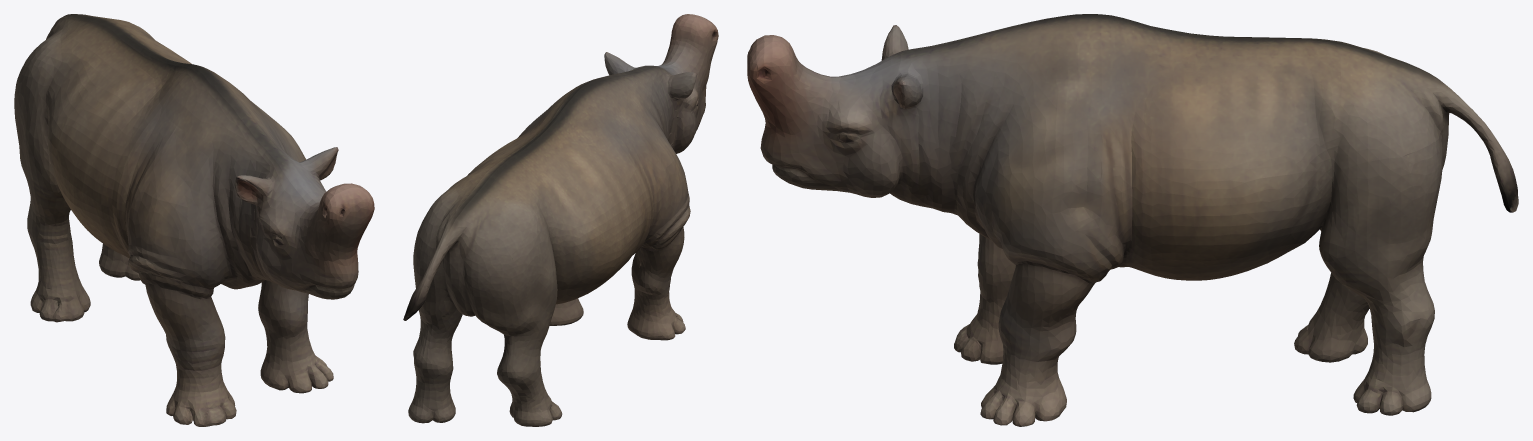
The picture shows the model from 3 angles, left to right: view 1: azimuth 30°, elevation 25°; view 2: azimuth 150°, elevation 25°; view 3: azimuth 270°, elevation 25°; orthographic projection. The views are drawn at different scales.
Parts seen in each view (by area): view 1: world; view 2: world; view 3: world.
Part boxes in pixels (bbox=[...]): world: bbox=[14, 14, 374, 426]; world: bbox=[403, 14, 718, 426]; world: bbox=[747, 14, 1518, 426].
Size of the model in its own units: 0.3452 by 0.515 by 0.9981.
Materials: 2 (1 with a texture image).
